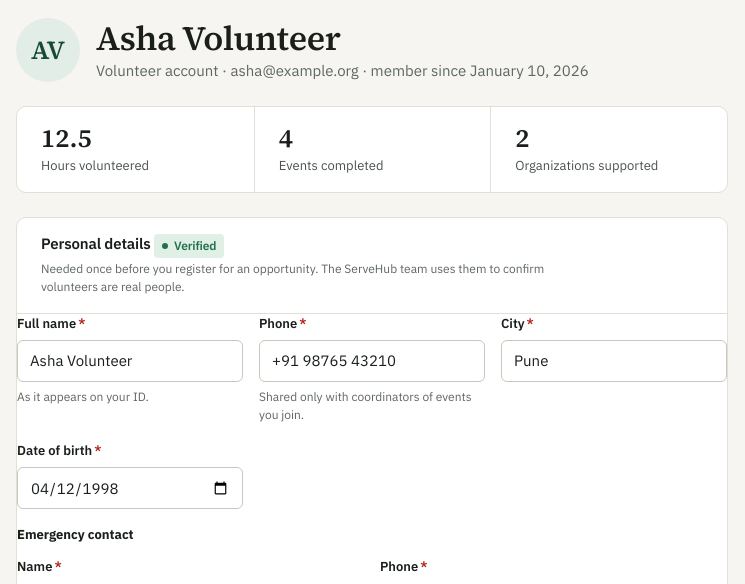
Test: Account settings › lets a volunteer keep their identity details up to date
expect the heading "Personal details Verified" is shown: met, box [41,234,224,258]
Step 1. Replace the text in the field labelled "City*" with "Mumbai" → (614, 361), box [501,340,727,382]
(page scrolled)
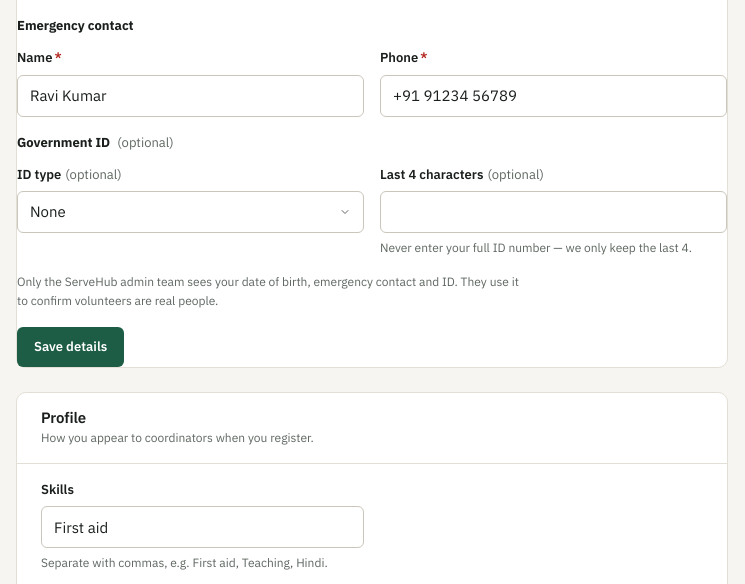
Step 2. Click the button "Save details" → (71, 347), box [17,327,124,367]
(page scrolled)
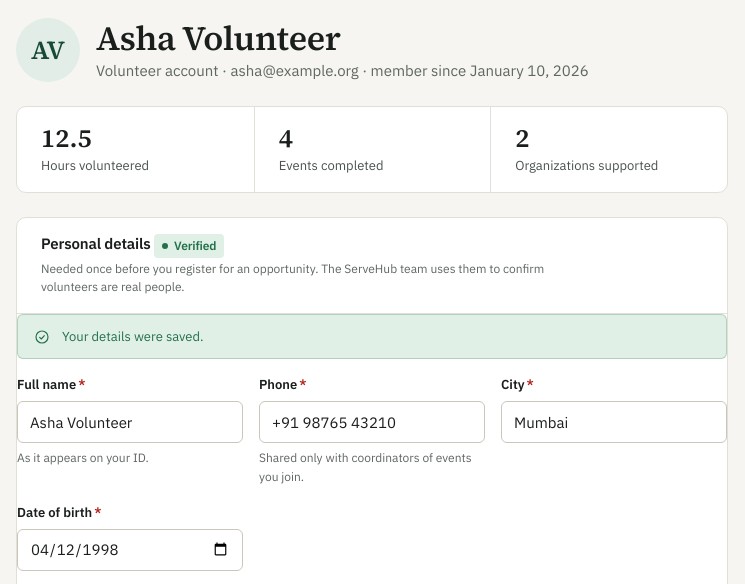
expect the text "Your details were saved." is shown: met, box [62,328,204,345]
